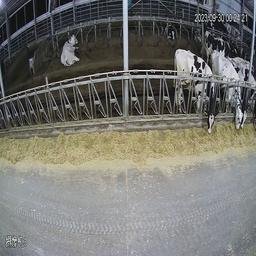cow: (175, 45, 215, 134), (216, 49, 246, 134), (60, 35, 80, 69), (159, 15, 179, 45)
